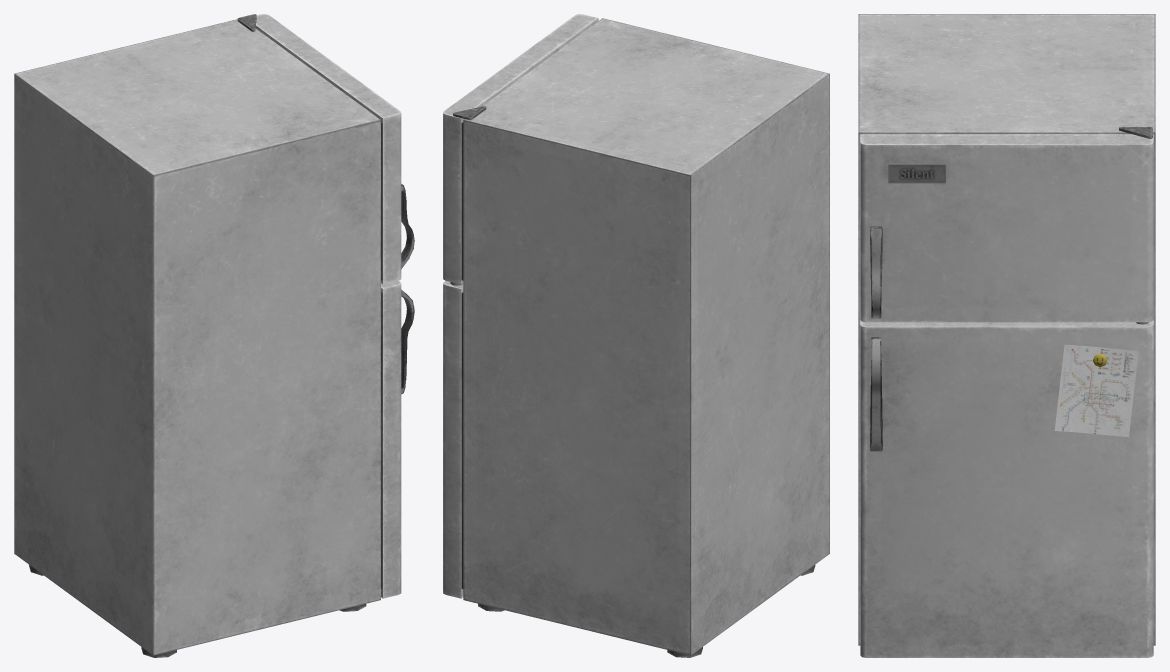
The model's file is fridge.gltf.
3 views of the same model, side by side, from view 1: azimuth 30°, elevation 25°; view 2: azimuth 150°, elevation 25°; view 3: azimuth 270°, elevation 25° (orthographic). The views are drawn at different scales.
Visible parts, largest first — view 1: Fridge_low.004; view 2: Fridge_low.004; view 3: Fridge_low.004.
Boxes of the visible parts, x1,y1,x2,y2 form: Fridge_low.004: (14, 14, 414, 657); Fridge_low.004: (443, 14, 829, 657); Fridge_low.004: (858, 14, 1155, 657).
Size of the model in its own units: 0.9583 by 1.69 by 0.8637.
Materials: 1 (1 with a texture image).
